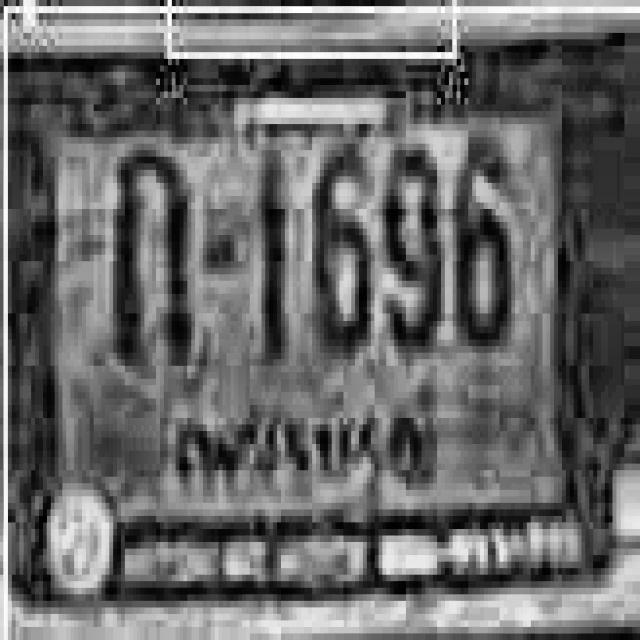license-plate: (10, 58, 628, 593)
